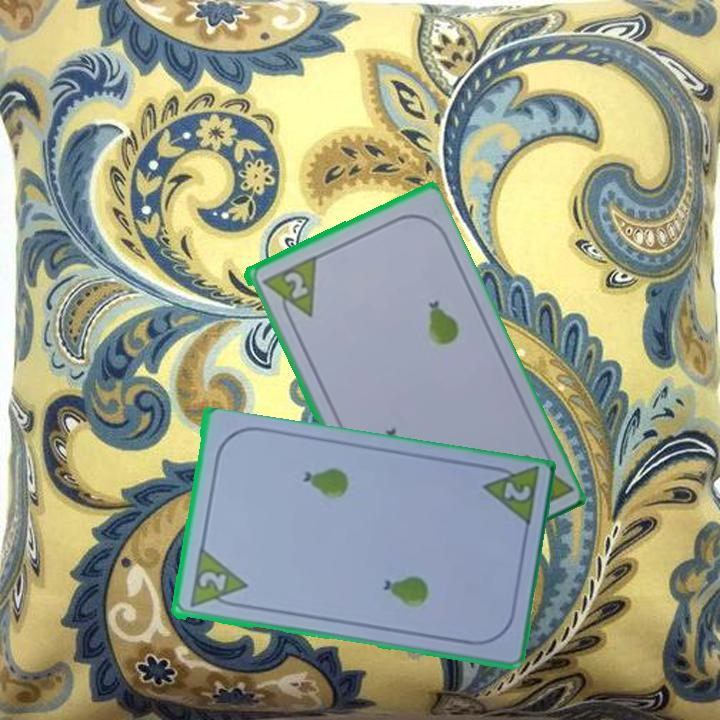2p: (257, 253, 319, 328), (477, 461, 542, 531), (186, 547, 249, 612)
